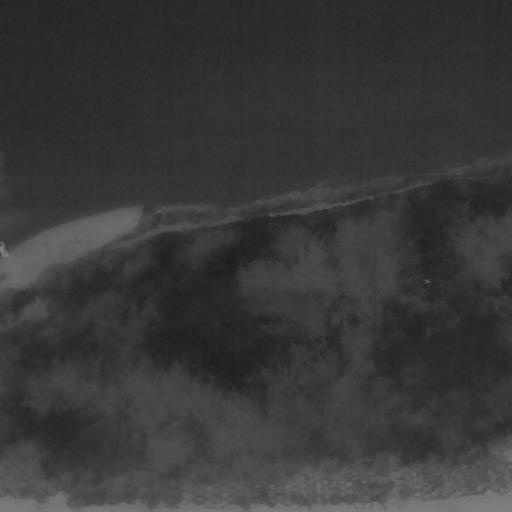uav: (425, 278, 433, 288)
